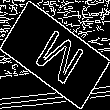M_SW: (25, 21, 85, 89)
